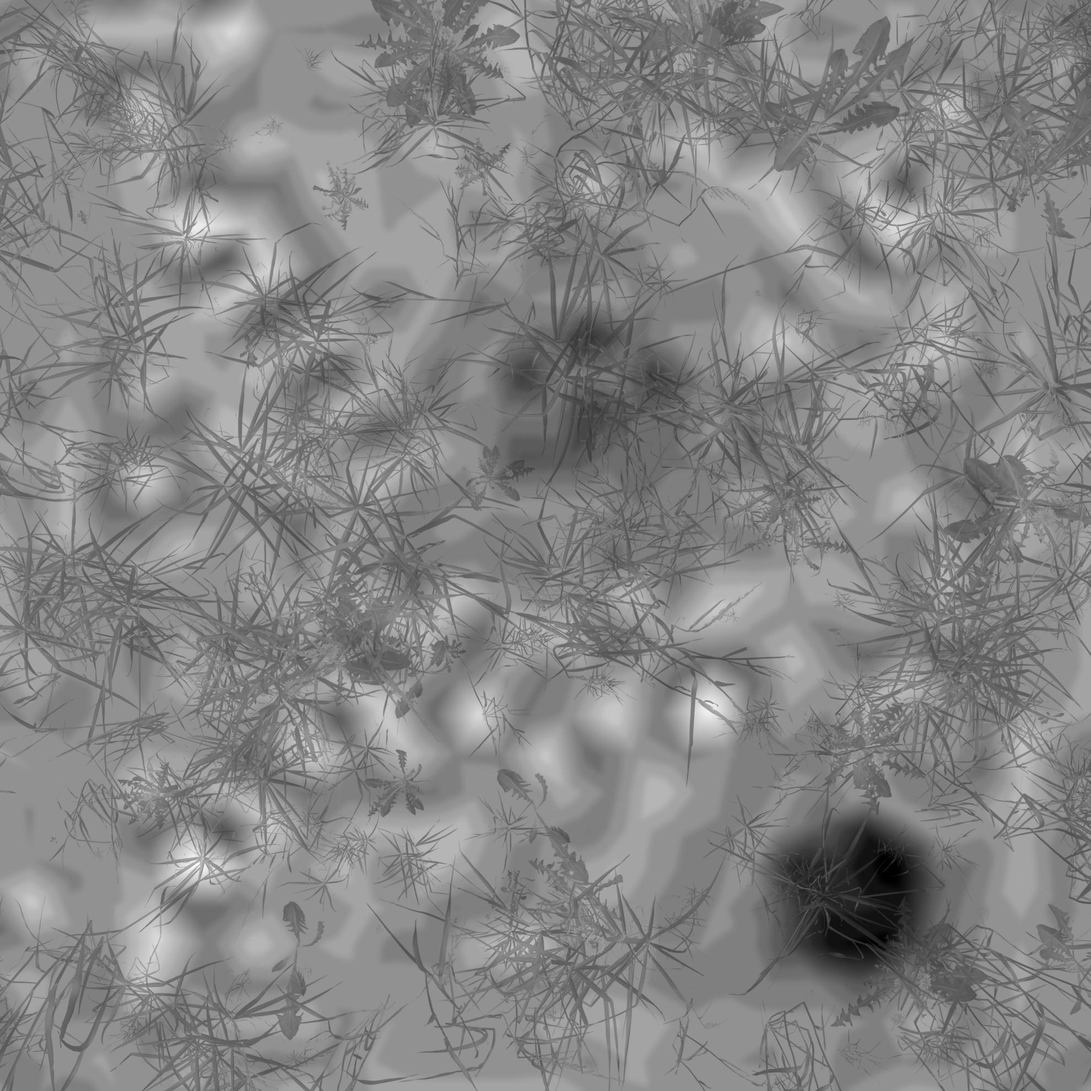landmine: (493, 312, 687, 476), (771, 817, 926, 976)
